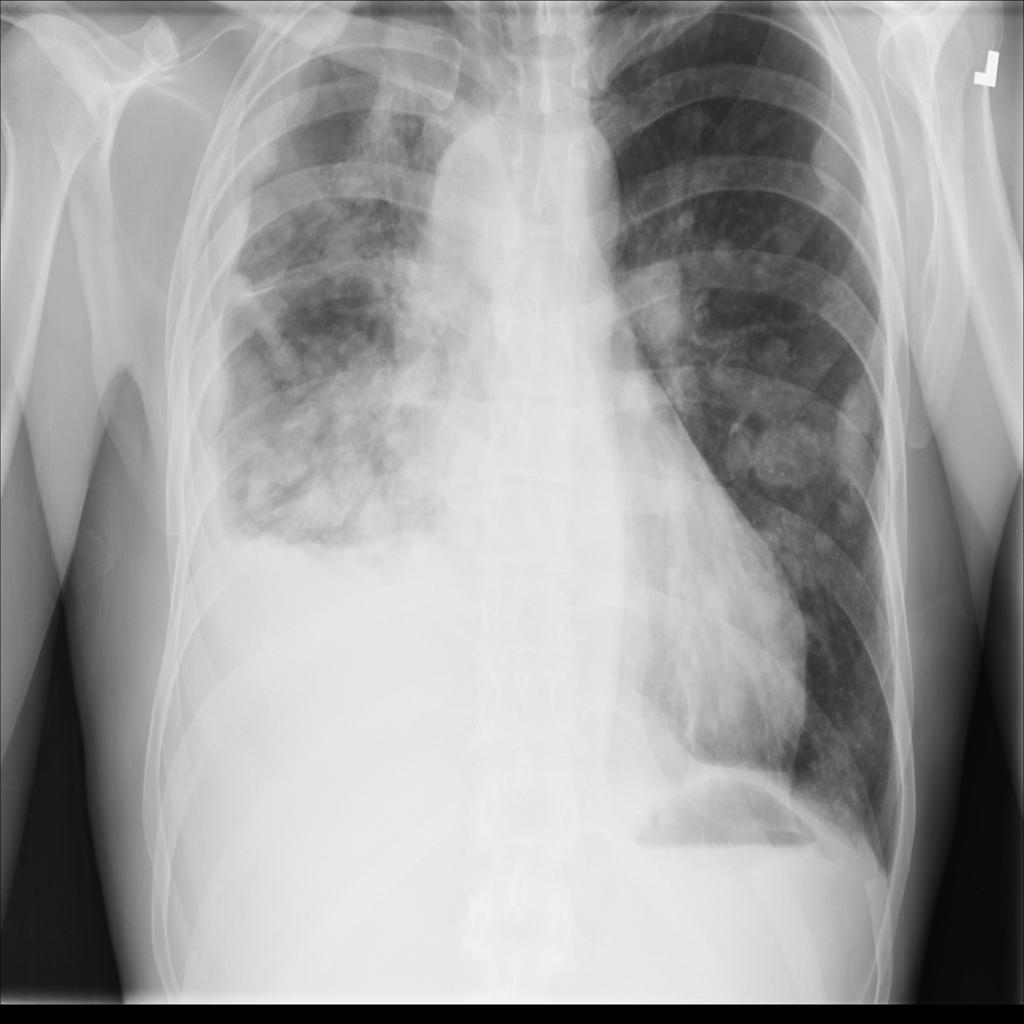nodule: (618, 241, 711, 359), (755, 411, 830, 501), (800, 113, 870, 198), (236, 441, 304, 517), (287, 468, 354, 545), (607, 359, 675, 434), (826, 374, 886, 459), (348, 487, 411, 562), (750, 328, 798, 383), (705, 671, 749, 731), (807, 517, 854, 573), (828, 486, 873, 543), (692, 565, 736, 622), (705, 225, 751, 279), (741, 101, 783, 157)
